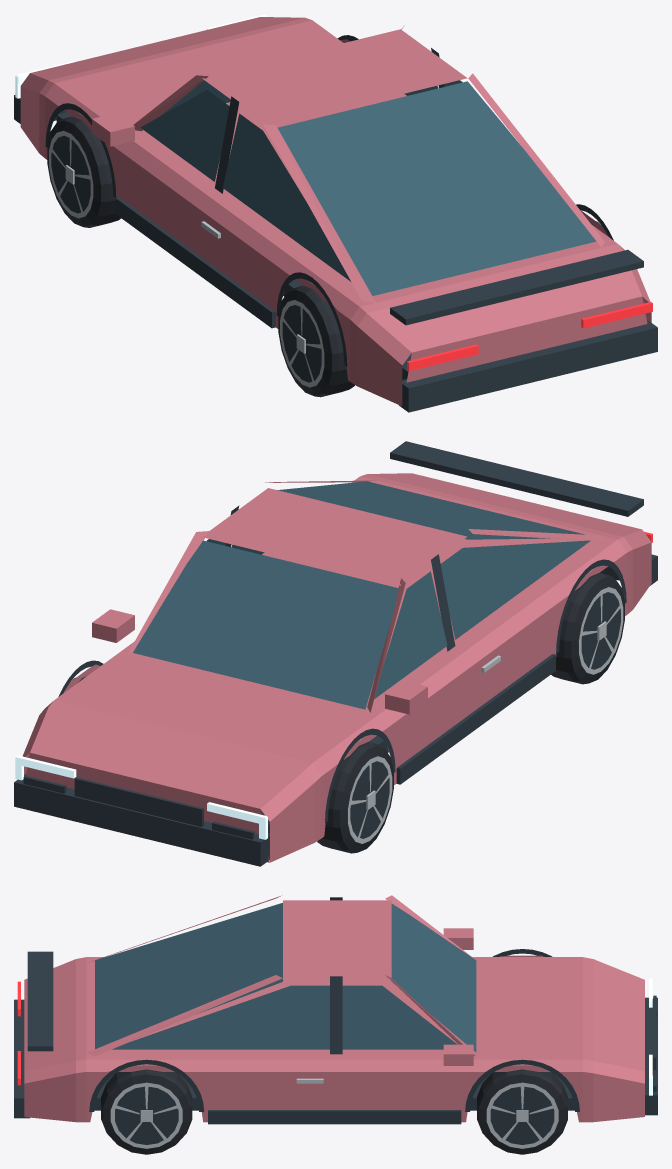
Rendered from aero_f.glb.
3 views of the same model, one above another, from view 1: azimuth 30°, elevation 25°; view 2: azimuth 150°, elevation 25°; view 3: azimuth 270°, elevation 25° (orthographic). The views are drawn at different scales.
Visible parts, largest first — view 1: Body, Wheel_2, Wheel_0; view 2: Body, Wheel_0, Wheel_2; view 3: Body, Wheel_3, Wheel_1.
Boxes of the visible parts, x1,y1,x2,y2 form: Body: (14, 14, 657, 412); Wheel_2: (278, 285, 354, 397); Wheel_0: (47, 116, 121, 227); Body: (14, 441, 657, 866); Wheel_0: (317, 742, 393, 853); Wheel_2: (551, 572, 624, 684); Body: (14, 895, 657, 1124); Wheel_3: (101, 1069, 192, 1154); Wheel_1: (477, 1069, 567, 1154).
Size of the model in its own units: 2.19 by 1.31 by 4.73.
